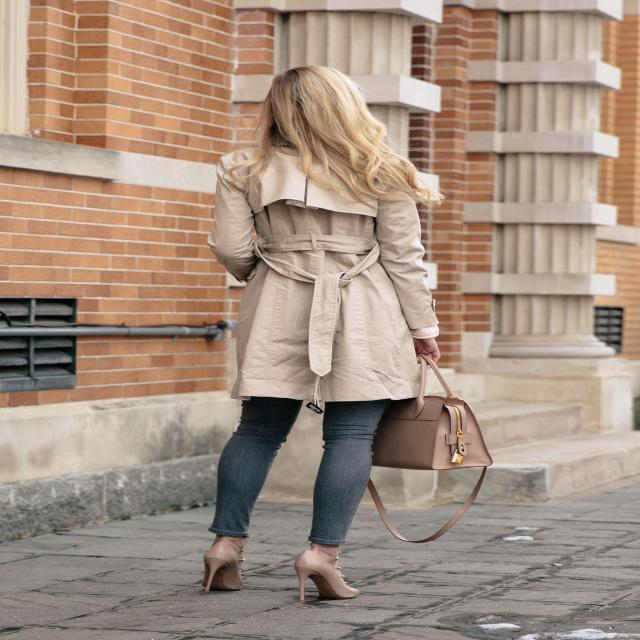coat: (210, 145, 442, 405)
trousers: (208, 391, 388, 549)
